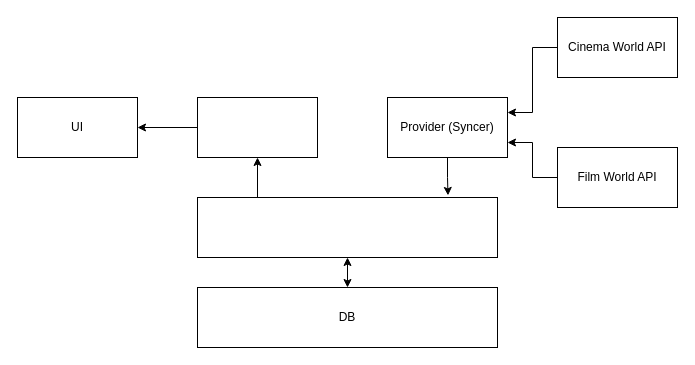
Some shapes in this 695 by 365 pixel diagram are drawn without their labels. The centre of each missing label's shape, as x and y in pixels:
"API" belongs at point (257, 127).
"Application (CQRS" belongs at point (347, 227).
